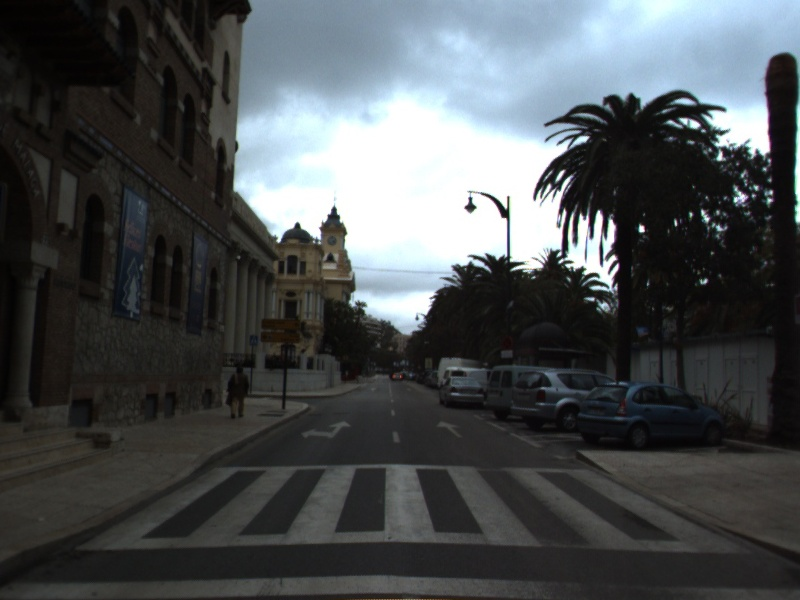STRAIGHT: (434, 419, 465, 439)
STRAIGHT_LEFT: (299, 419, 353, 441)
